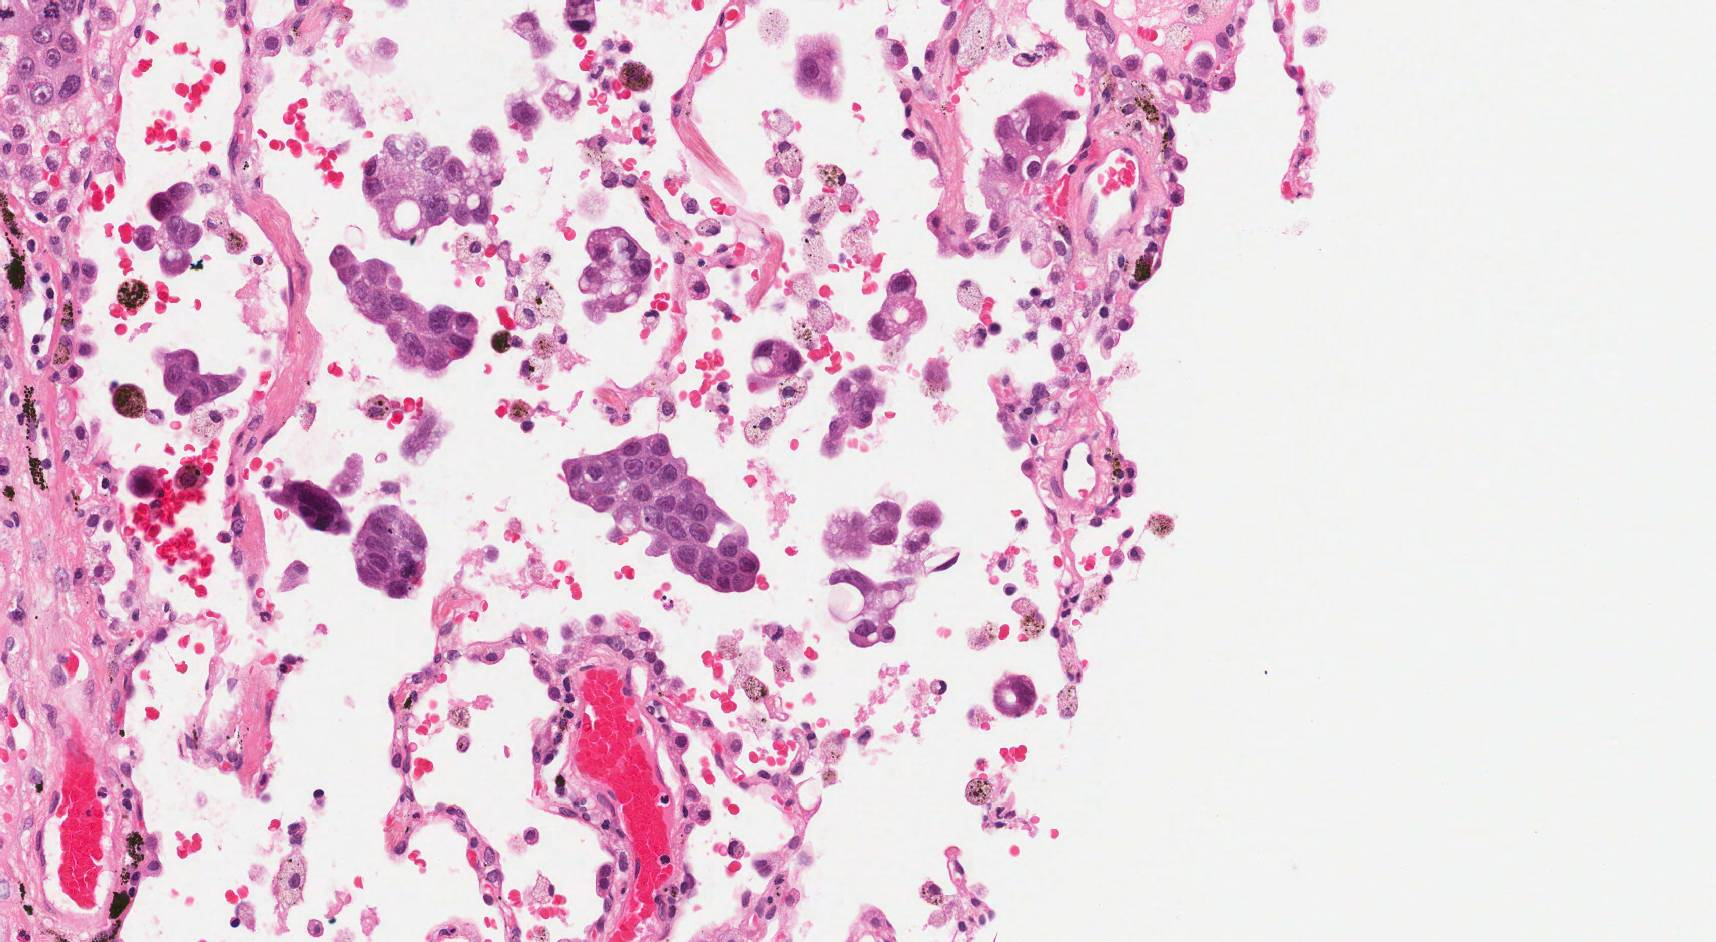stas: (561, 434, 761, 592), (829, 495, 962, 650), (327, 243, 480, 372), (361, 128, 505, 244), (577, 223, 653, 325), (129, 181, 203, 278), (994, 90, 1075, 177), (353, 507, 428, 599), (822, 366, 887, 457), (162, 347, 247, 412), (868, 268, 929, 340), (747, 337, 807, 380)
